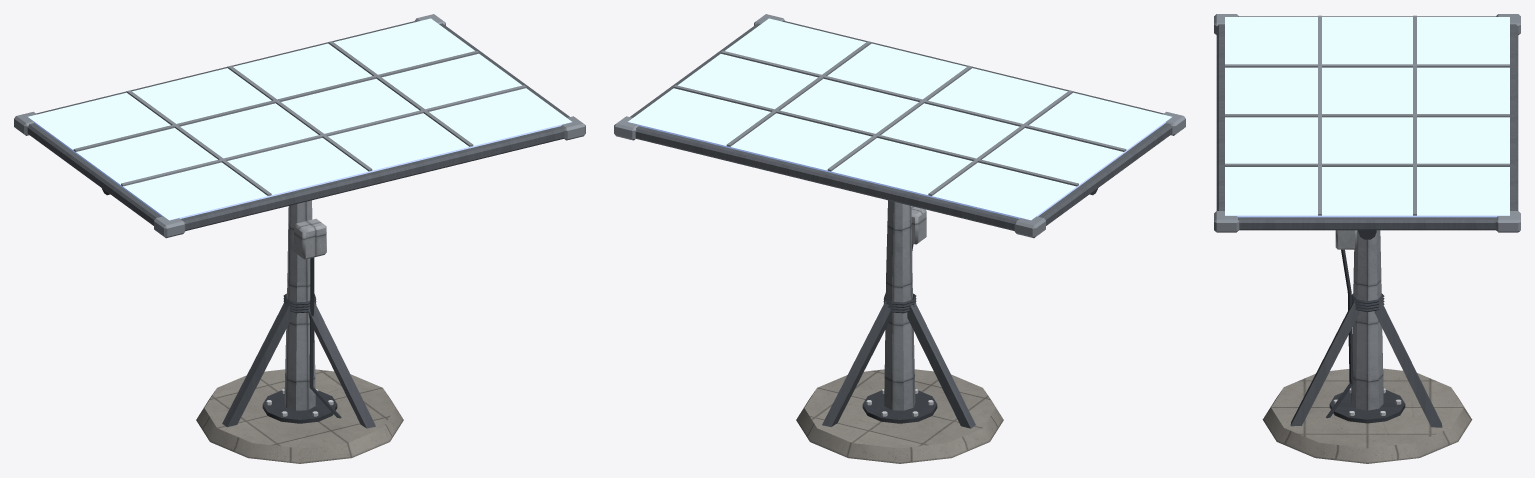
File: solar_panel.glb
The picture shows the model from 3 angles, left to right: view 1: azimuth 30°, elevation 25°; view 2: azimuth 150°, elevation 25°; view 3: azimuth 270°, elevation 25°; orthographic projection.
Visible parts, largest first — view 1: solar_panel, solar_post; view 2: solar_panel, solar_post; view 3: solar_panel, solar_post.
Boxes of the visible parts, x1,y1,x2,y2 form: solar_panel: [14, 14, 585, 238]; solar_post: [196, 200, 403, 463]; solar_panel: [614, 14, 1185, 238]; solar_post: [796, 200, 1003, 463]; solar_panel: [1214, 14, 1520, 239]; solar_post: [1262, 230, 1472, 463].
Bounding box in the file's own units: 5.86 × 4.11 × 3.66.
7 materials, 4 textured.
